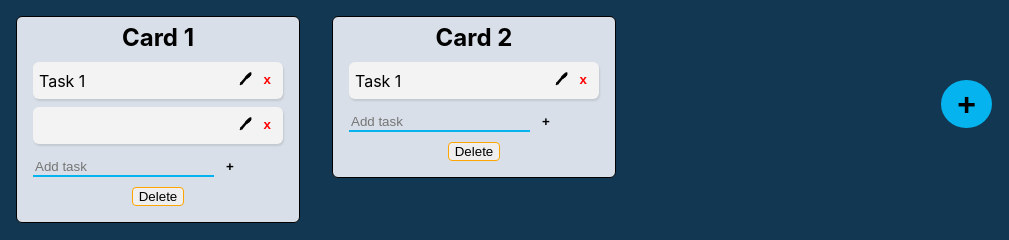
Test: CardSlice › should edit a task
Step 1. Click the button with test id "card-1-task-1-edit-task" → (245, 81), box [233,69,258,93]
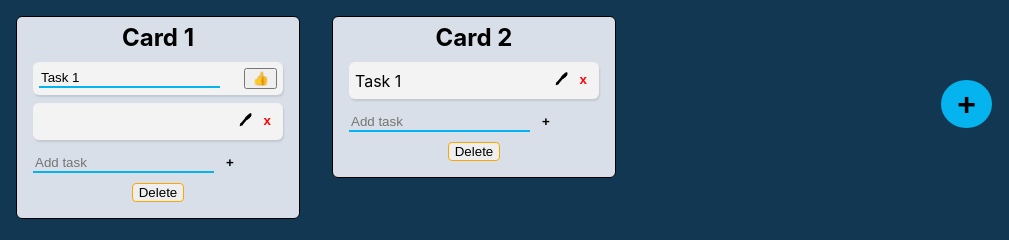
Check: the field with test id "card-1-task-1-edit-task-input" is shown, box [39,69,220,88]
